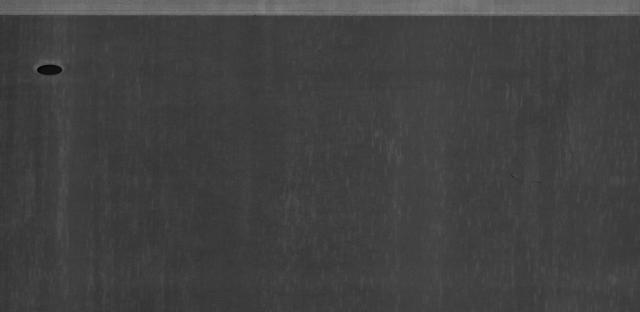punching_hole: (27, 57, 75, 80)
welding_line: (1, 6, 640, 29)
